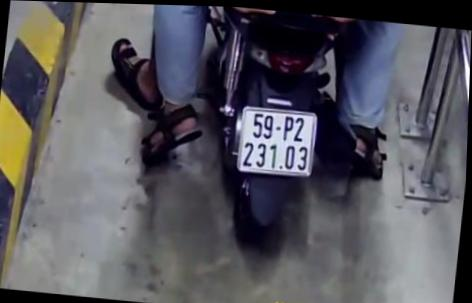LP: (235, 103, 322, 179)
